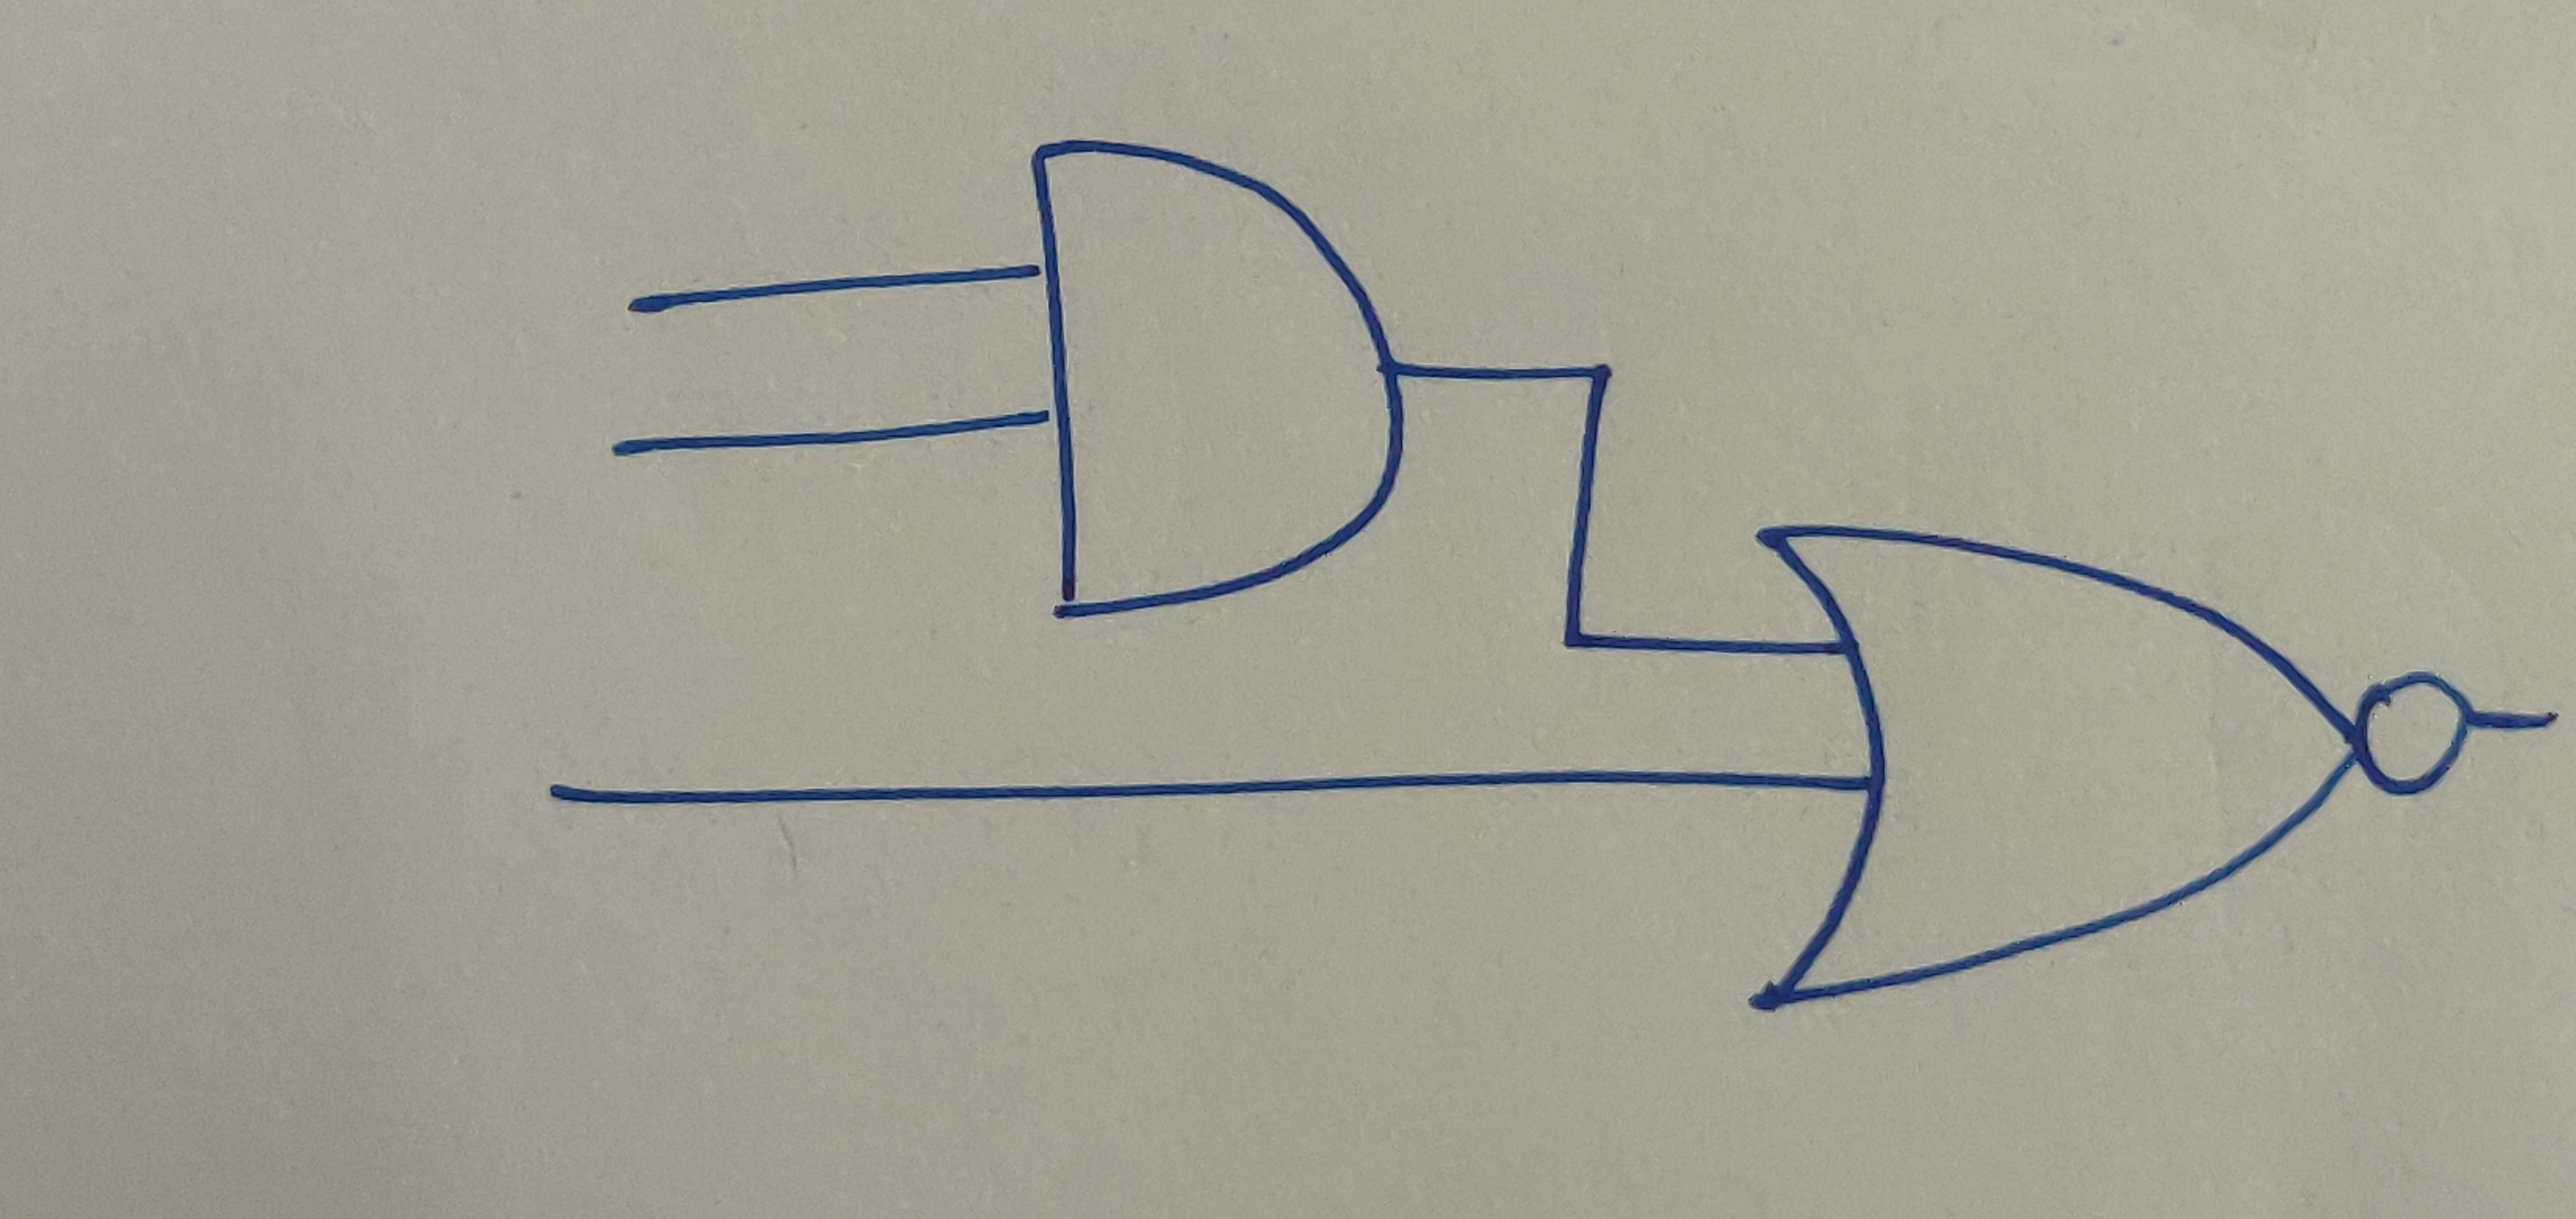and: (1023, 141, 1410, 626)
not: (2349, 669, 2477, 803)
or: (1756, 527, 2364, 1019)
